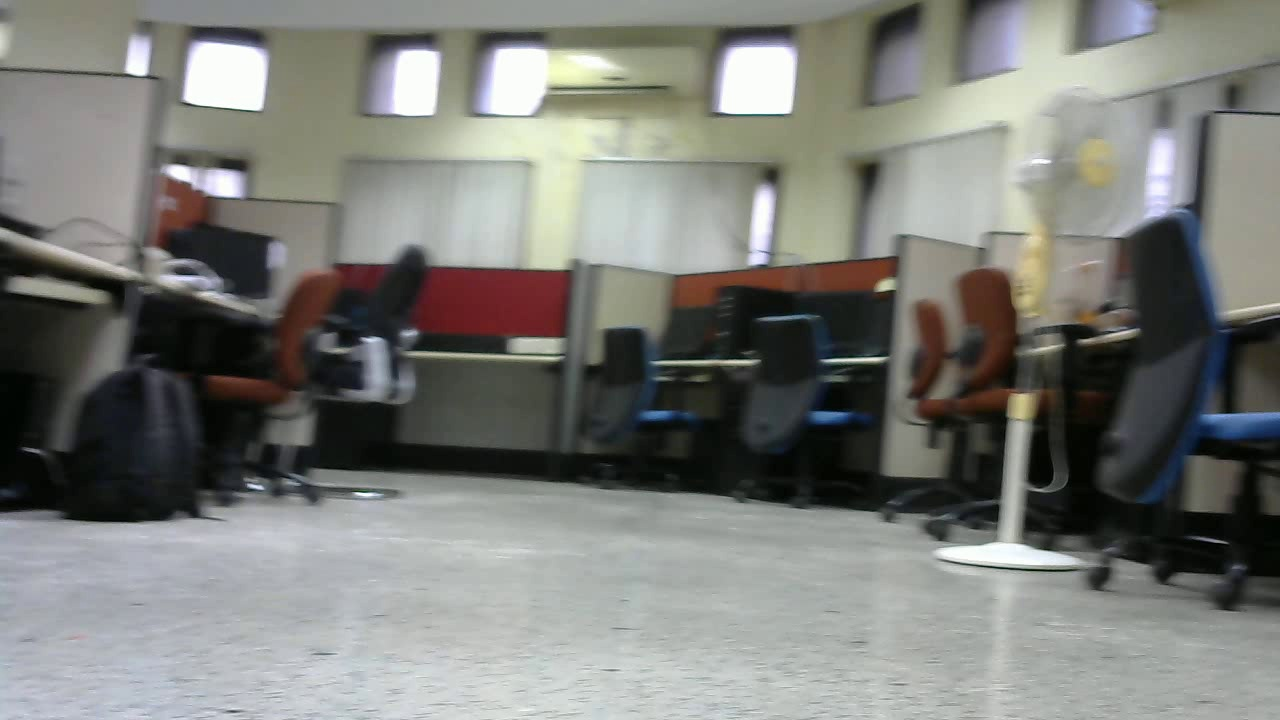chair: (1094, 217, 1280, 611), (949, 259, 1079, 548), (179, 266, 344, 467), (336, 238, 436, 512), (740, 303, 870, 511), (584, 318, 726, 504), (893, 270, 945, 533)
